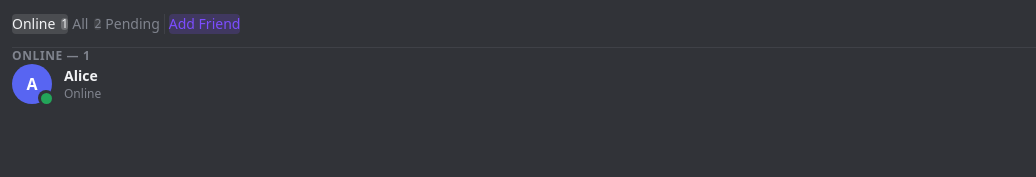
Test case: FriendsView — All tab › shows online and offline sections when both exist
Click the button "All 2" at [87, 24], box x1=72 y1=14 x2=101 y2=34
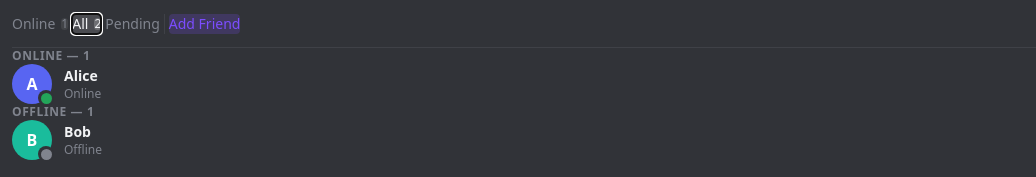
Expected: the text "Online — 1" is shown, x1=12 y1=48 x2=90 y2=64
Result: the text "Offline — 1" is shown at x1=12 y1=103 x2=94 y2=120
Result: the text "Bob" is shown at x1=64 y1=122 x2=91 y2=141
